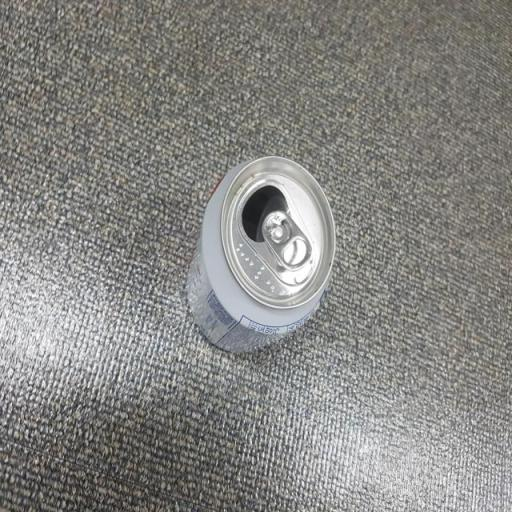metal: (174, 134, 364, 375)
